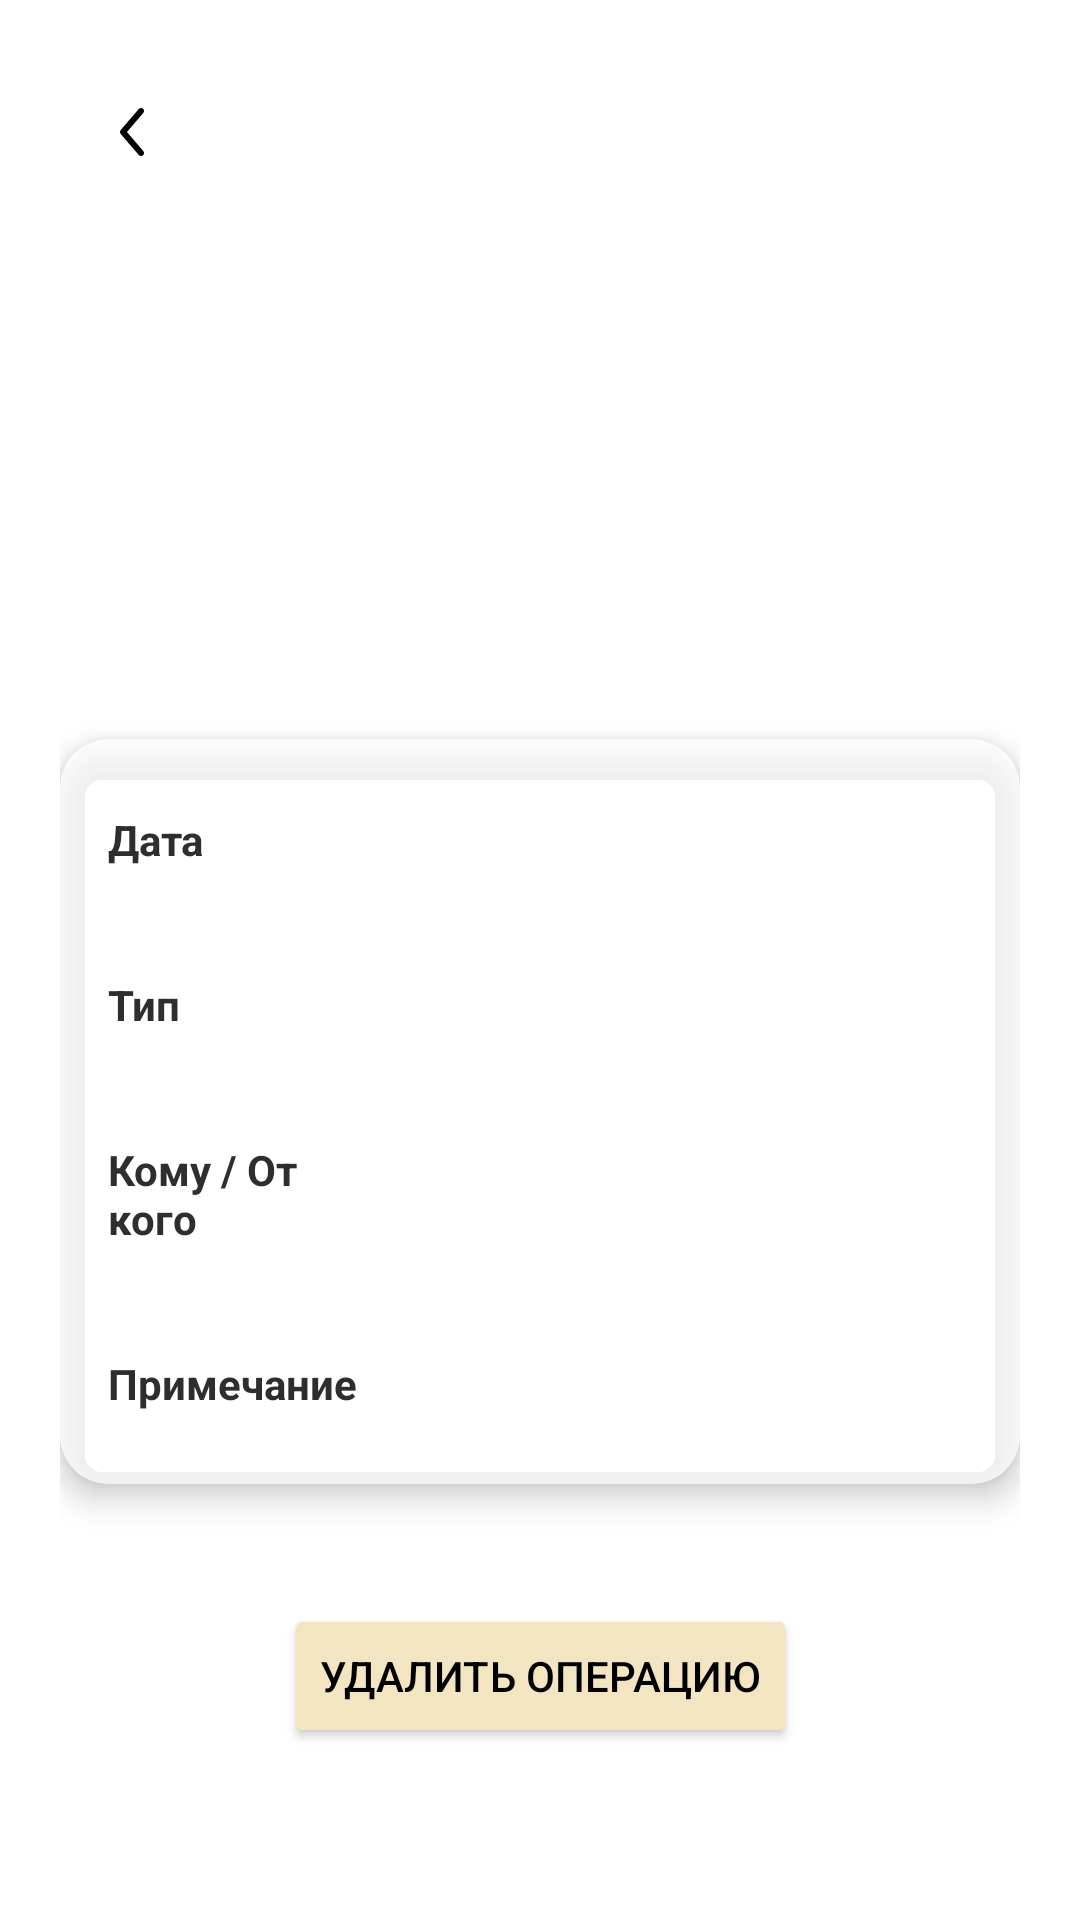

Locate icon controls on the screen. Image size 1080 x 1920, boxes as (x1, y1, x2, y2).
back: (120, 108, 144, 156)
